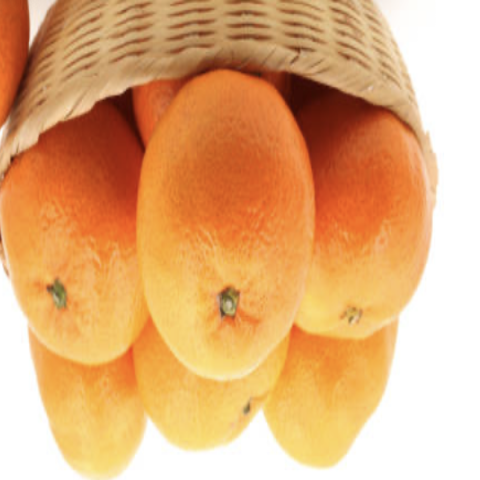orange: (131, 71, 326, 391), (264, 99, 469, 359), (2, 70, 158, 388)
